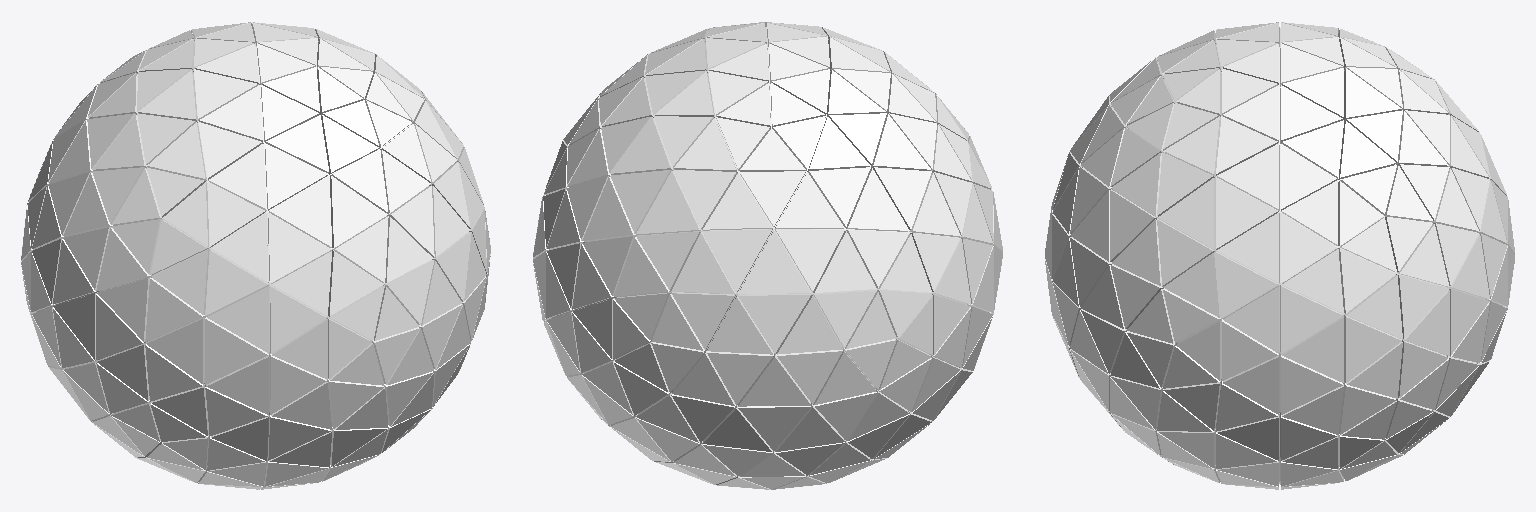
File: mirror_ball.obj
3 renders of one model, left to right at view 1: azimuth 30°, elevation 25°; view 2: azimuth 150°, elevation 25°; view 3: azimuth 270°, elevation 25°, orthographic.
Visible parts, largest first — view 1: sanjiaodisikeqiu; view 2: sanjiaodisikeqiu; view 3: sanjiaodisikeqiu.
Boxes of the visible parts, x1=… form: sanjiaodisikeqiu: x1=21, y1=22, x2=490, y2=489; sanjiaodisikeqiu: x1=533, y1=22, x2=1002, y2=489; sanjiaodisikeqiu: x1=1045, y1=22, x2=1514, y2=489.
Bounding box in the file's own units: 0.9557 × 0.9556 × 0.956.